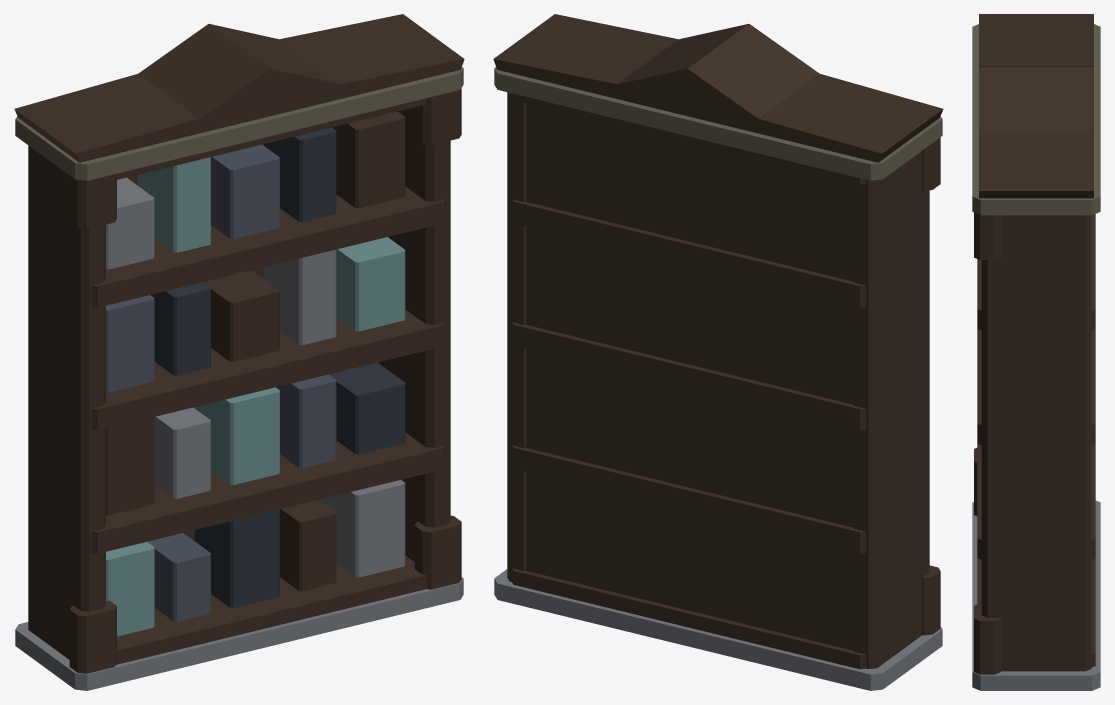
File: bookcase_tall.glb
3 renders of one model, left to right at view 1: azimuth 30°, elevation 25°; view 2: azimuth 150°, elevation 25°; view 3: azimuth 270°, elevation 25°, orthographic. The views are drawn at different scales.
Visible parts, largest first — view 1: bookcase_tall_Static; view 2: bookcase_tall_Static; view 3: bookcase_tall_Static.
Boxes of the visible parts, x1,y1,x2,y2 form: bookcase_tall_Static: [14, 14, 464, 690]; bookcase_tall_Static: [493, 14, 943, 690]; bookcase_tall_Static: [972, 14, 1100, 690].
Size of the model in its own units: 2.48 by 3.5 by 0.76.
